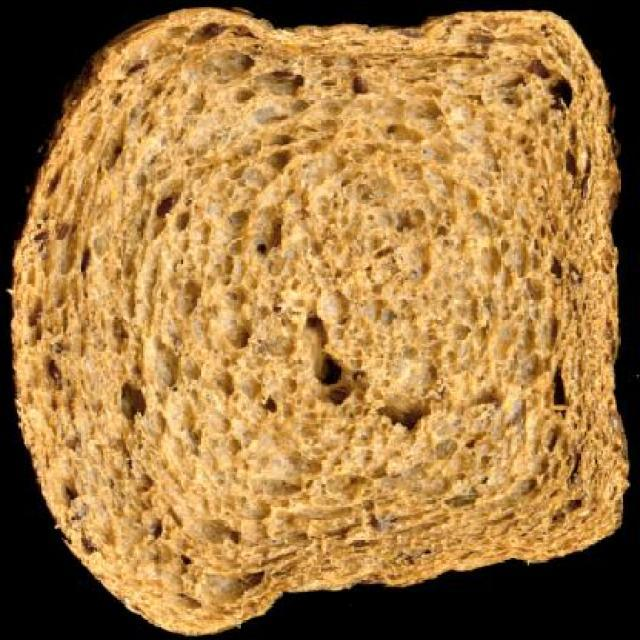Bread: (18, 10, 626, 630)
